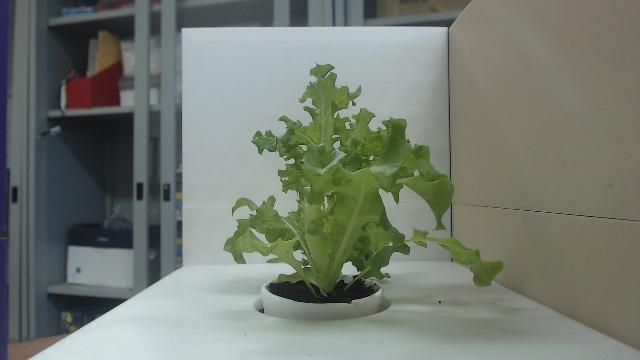Harvest Stage: (222, 62, 506, 290)
